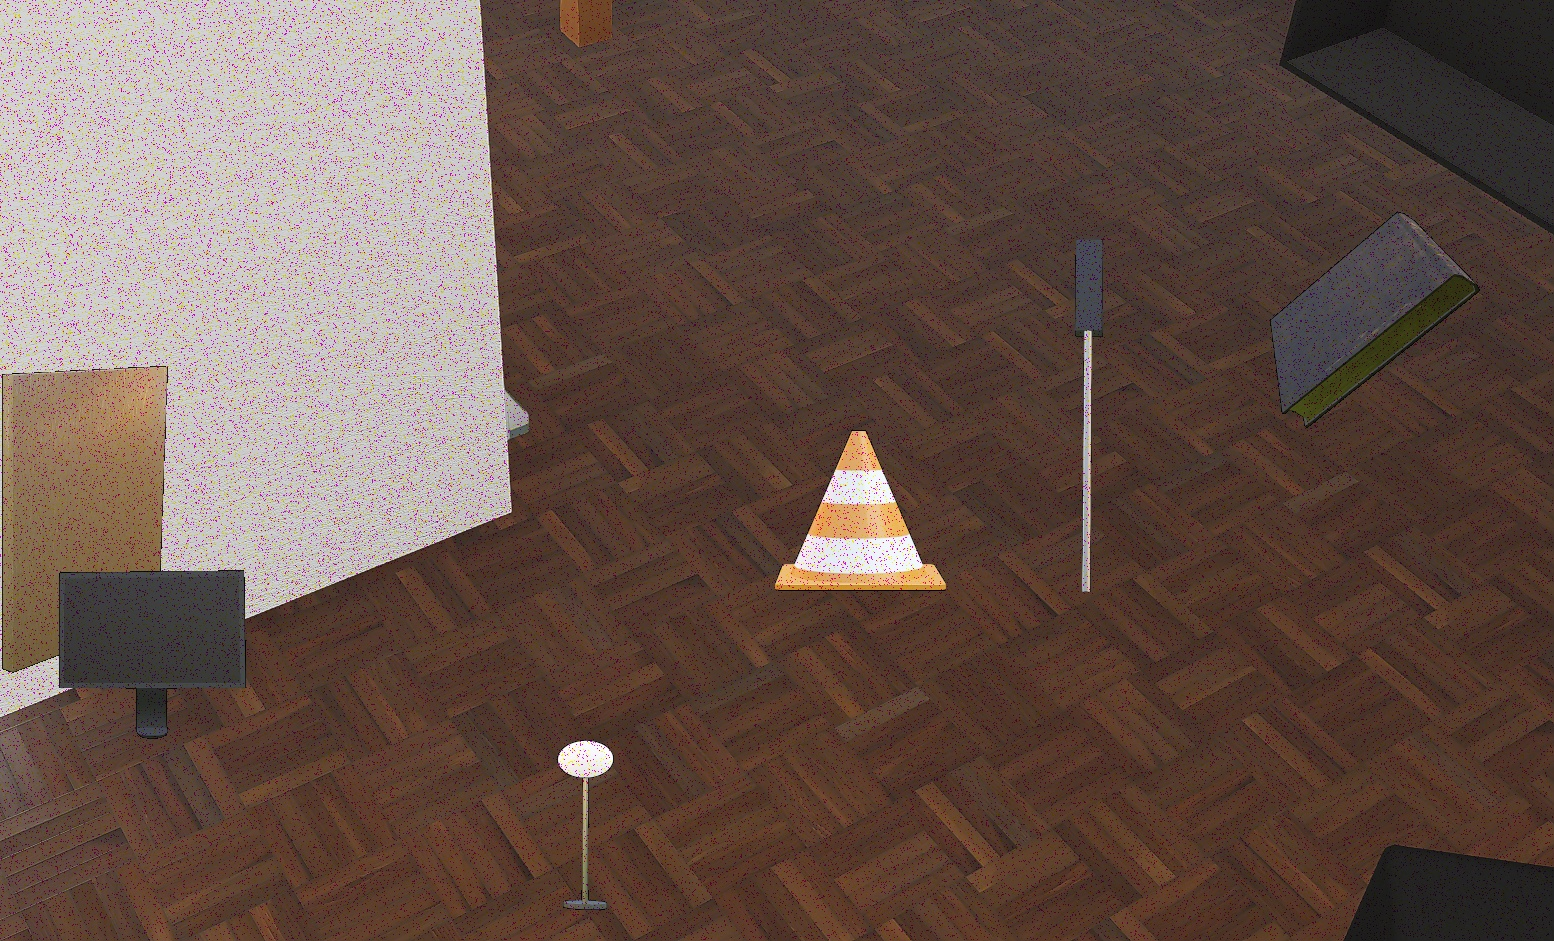cono: (774, 431, 947, 591)
cuadro: (2, 366, 168, 672)
libro: (1270, 212, 1480, 428)
luz: (557, 740, 614, 910)
monitor: (59, 570, 246, 739)
semaforo: (1074, 237, 1104, 593)
